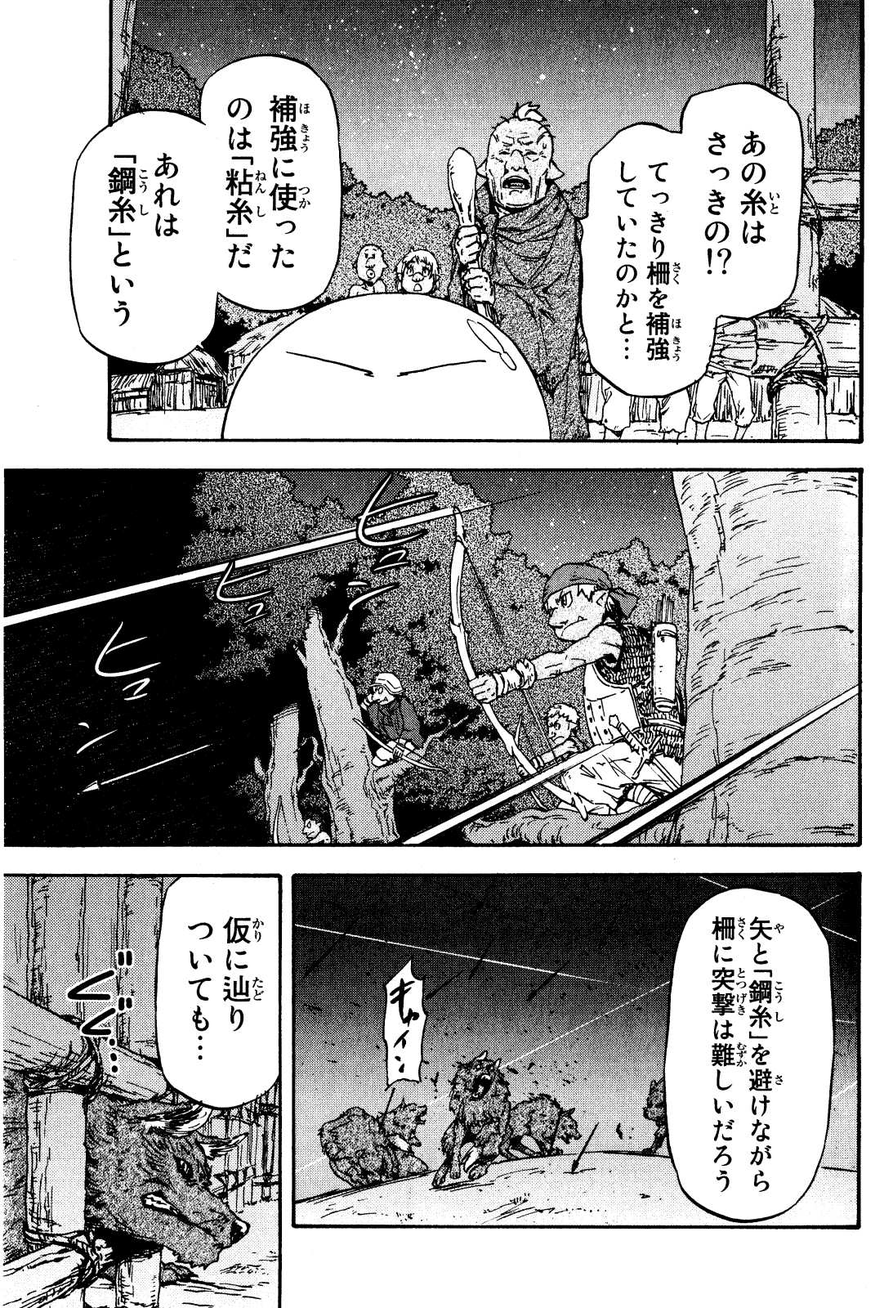bubbles: (67, 48, 350, 373), (568, 74, 809, 409), (660, 885, 840, 1225), (153, 875, 279, 1119), (373, 955, 431, 1093)
